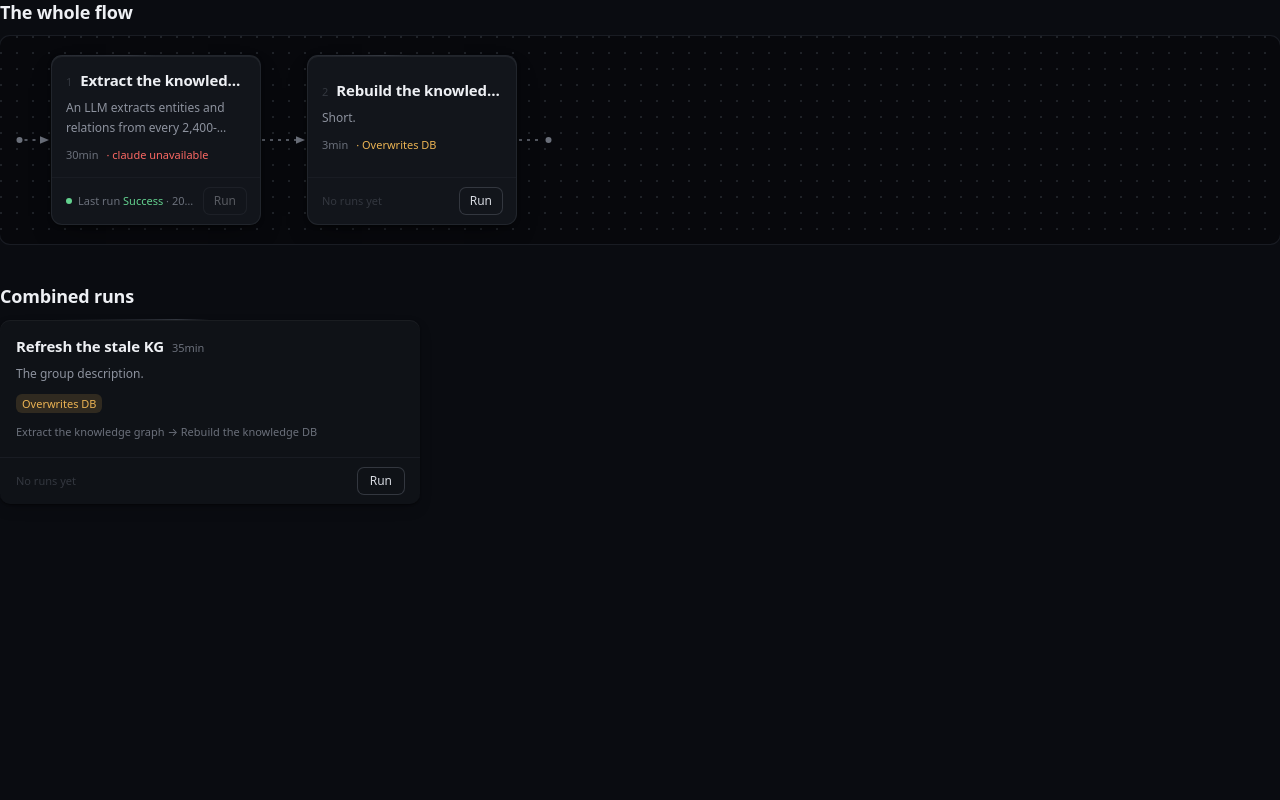
Test case: StepDetail — the full text of a truncated description › with no claude, running is locked and the reason is visible
The image size is (1280, 800).
Click the button "Extract the knowledge graph" at coordinates (156, 117), box [52,56,260,177]
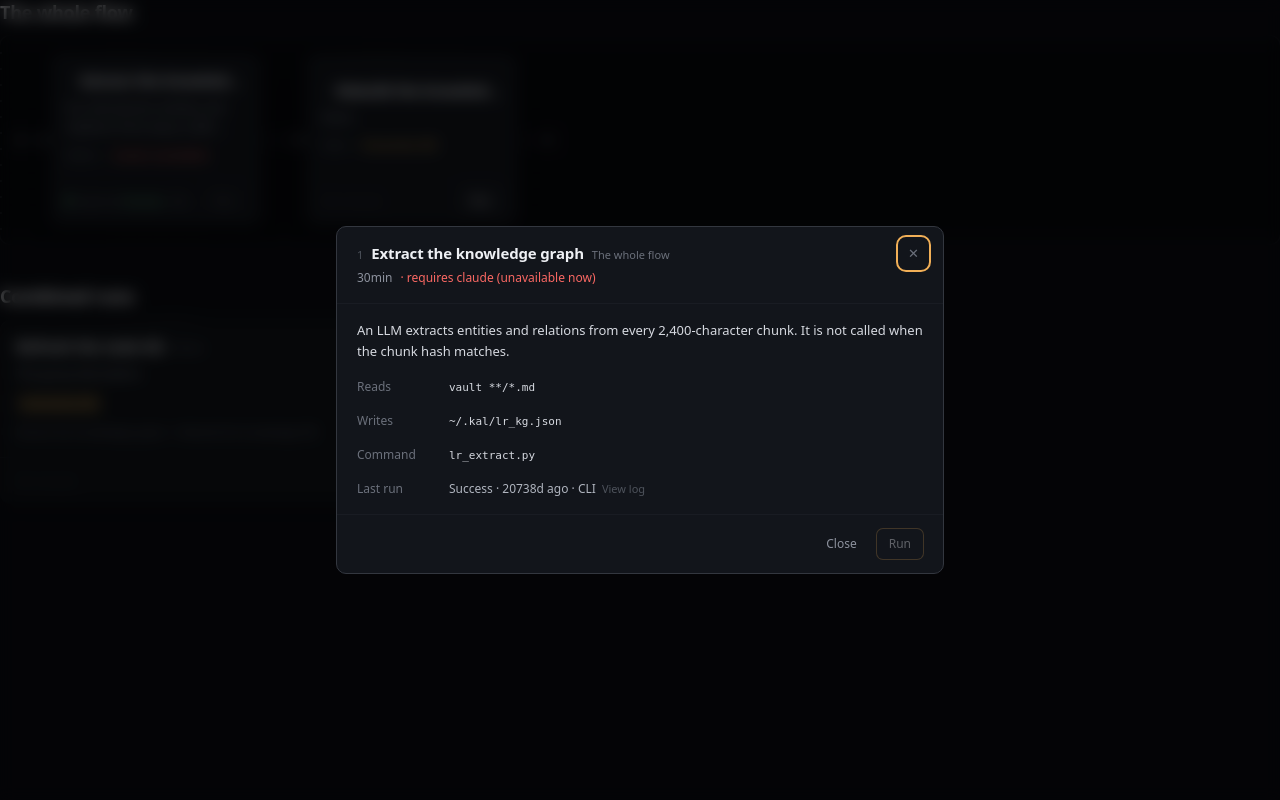
Result: the button "Run" is disabled at [877,529,923,559]
Result: the dialog shows "unavailable now" at [494,269,596,286]
